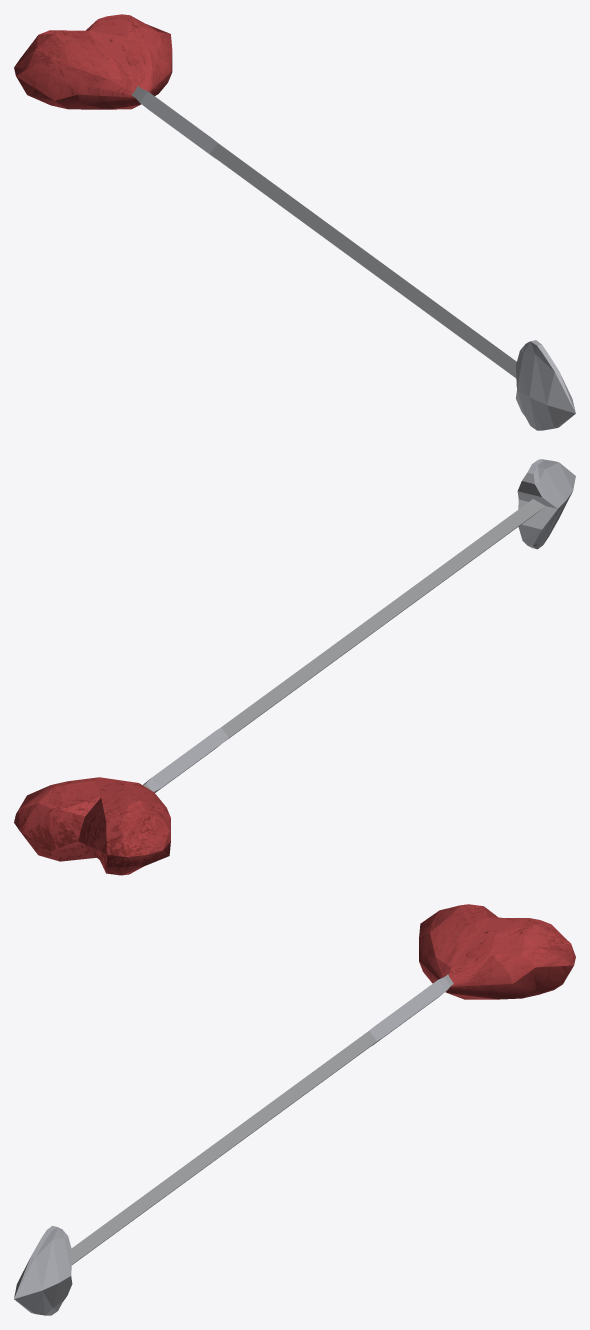
Rendered from item_arrow_heart.glb.
3 renders of one model, top to bottom at view 1: azimuth 30°, elevation 25°; view 2: azimuth 150°, elevation 25°; view 3: azimuth 330°, elevation 25°, orthographic.
Visible parts, largest first — view 1: arrowhead_heart, empty_arrow; view 2: arrowhead_heart, empty_arrow; view 3: arrowhead_heart, empty_arrow.
Boxes of the visible parts, box(x1,y1,x2,y2) form: arrowhead_heart: box(14, 14, 172, 109); empty_arrow: box(131, 86, 575, 430); arrowhead_heart: box(14, 777, 170, 875); empty_arrow: box(143, 459, 575, 792); arrowhead_heart: box(419, 904, 575, 999); empty_arrow: box(14, 974, 453, 1315).
Bounding box in the file's own units: 0.0801 × 0.0439 × 0.4738.
2 materials, 2 textured.
